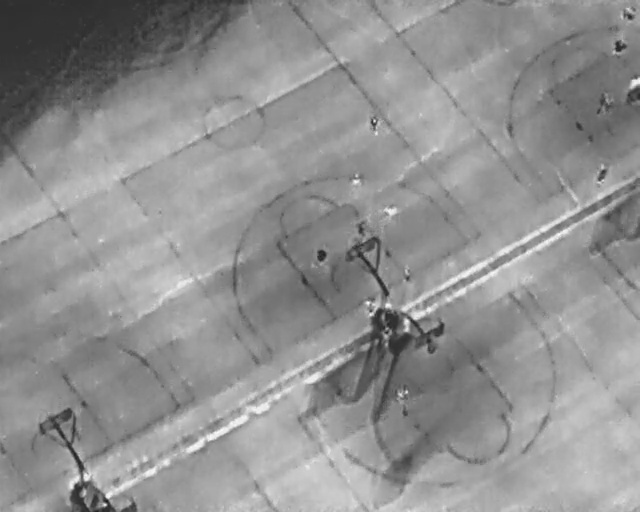Person: (594, 89, 619, 118), (608, 35, 629, 60), (379, 199, 401, 222), (617, 1, 639, 24), (593, 160, 610, 186), (348, 171, 364, 190), (313, 246, 329, 265), (394, 385, 410, 404), (399, 262, 413, 283), (368, 115, 381, 135)
